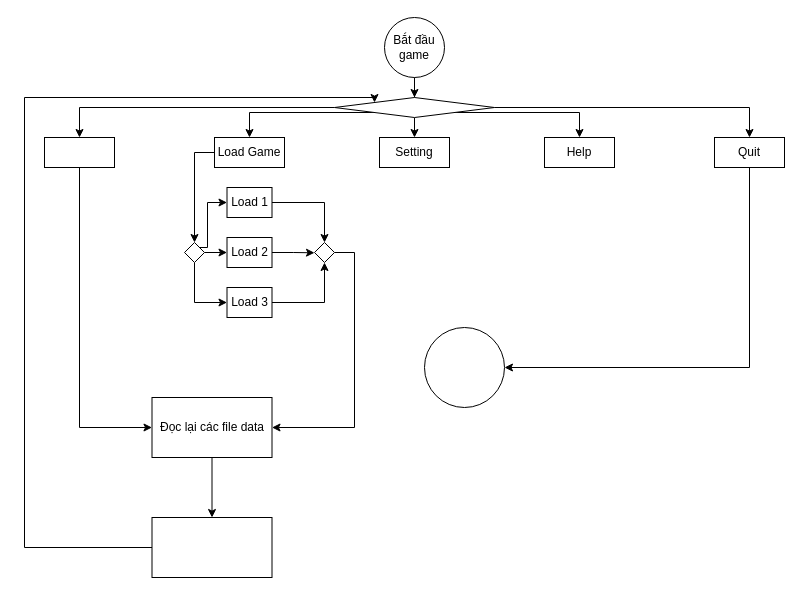
Image size: 802x595. Some labels were removed from this diagram. The shapes that lost their labels are listed below. From the top down, each one's centre as x and y in pixels, then its label:
At (414,107): "stc".
At (79,152): "New Game".
At (464,367): "Kết thúc game".
At (211,547): "chơi game".
